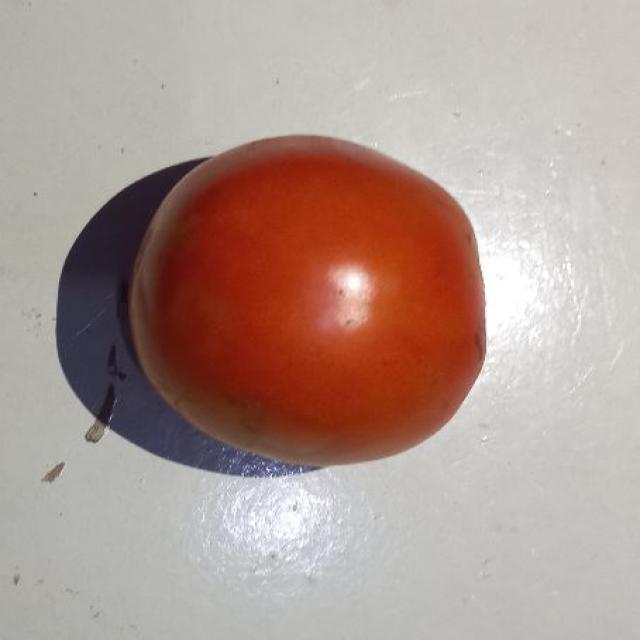ripe tomato: (150, 122, 505, 461)
